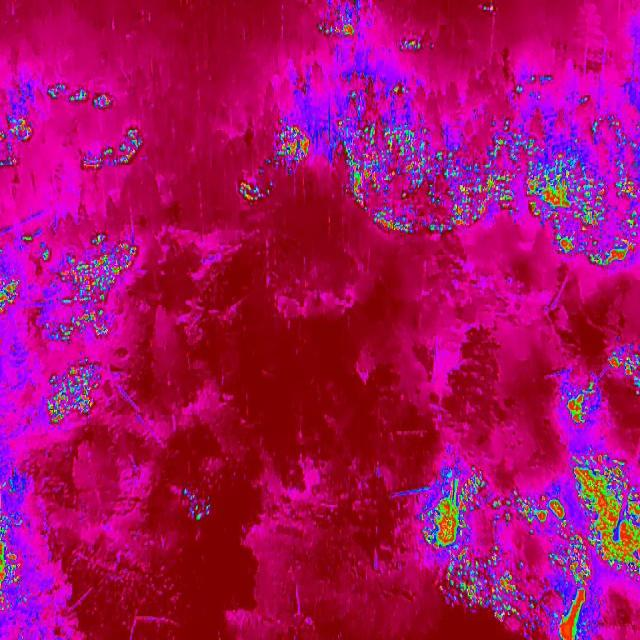fire: (322, 71, 636, 268), (42, 233, 142, 346), (432, 543, 555, 631), (570, 454, 640, 584), (418, 466, 491, 554), (43, 354, 107, 428), (76, 121, 148, 179), (490, 489, 574, 535), (39, 76, 120, 114), (552, 538, 596, 590), (563, 372, 603, 428), (0, 110, 37, 170), (316, 0, 363, 41), (274, 121, 312, 168), (558, 586, 591, 640), (606, 340, 640, 390), (182, 486, 214, 526), (237, 174, 273, 204), (0, 542, 23, 588), (0, 471, 29, 498), (1, 278, 22, 314), (398, 34, 426, 54), (479, 0, 498, 15)
